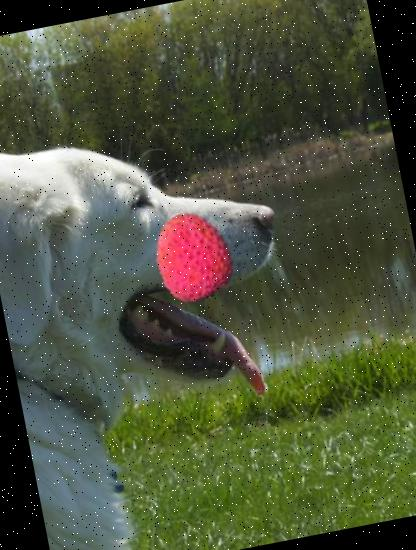Lychee: (139, 202, 245, 308)
